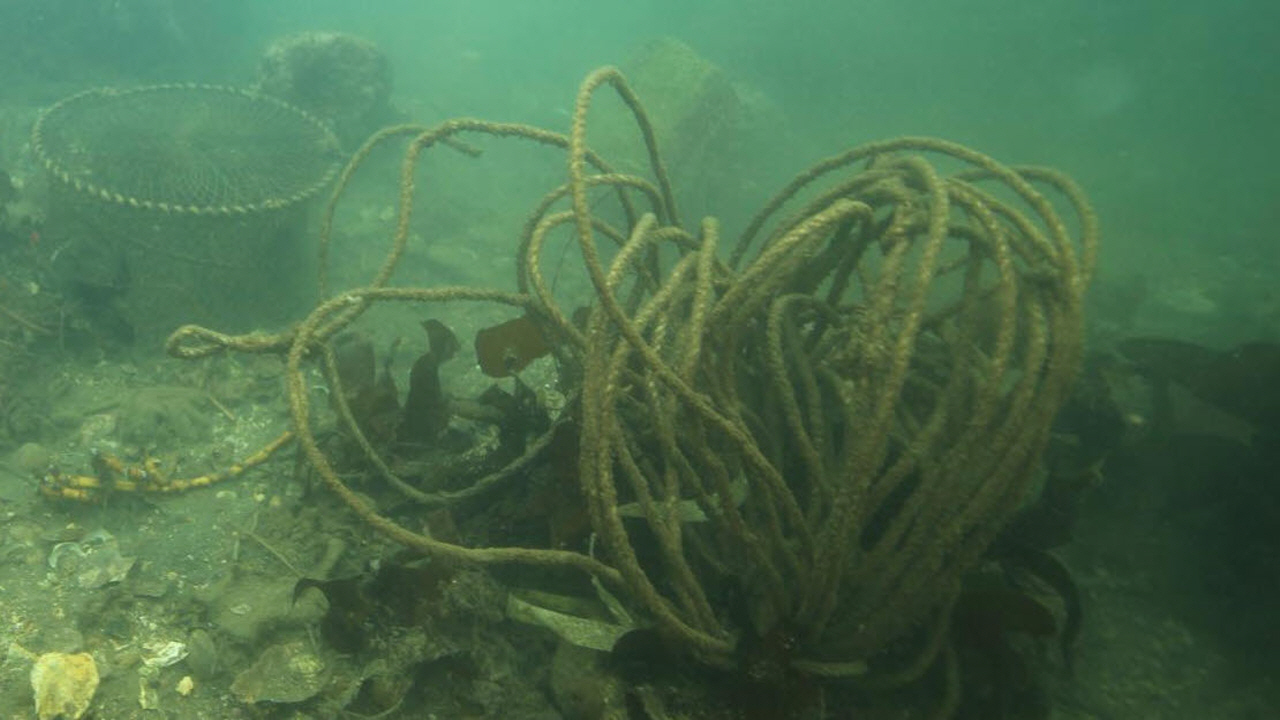bundle of ropes: (162, 62, 1100, 699)
circular fish trap: (32, 78, 348, 335)
